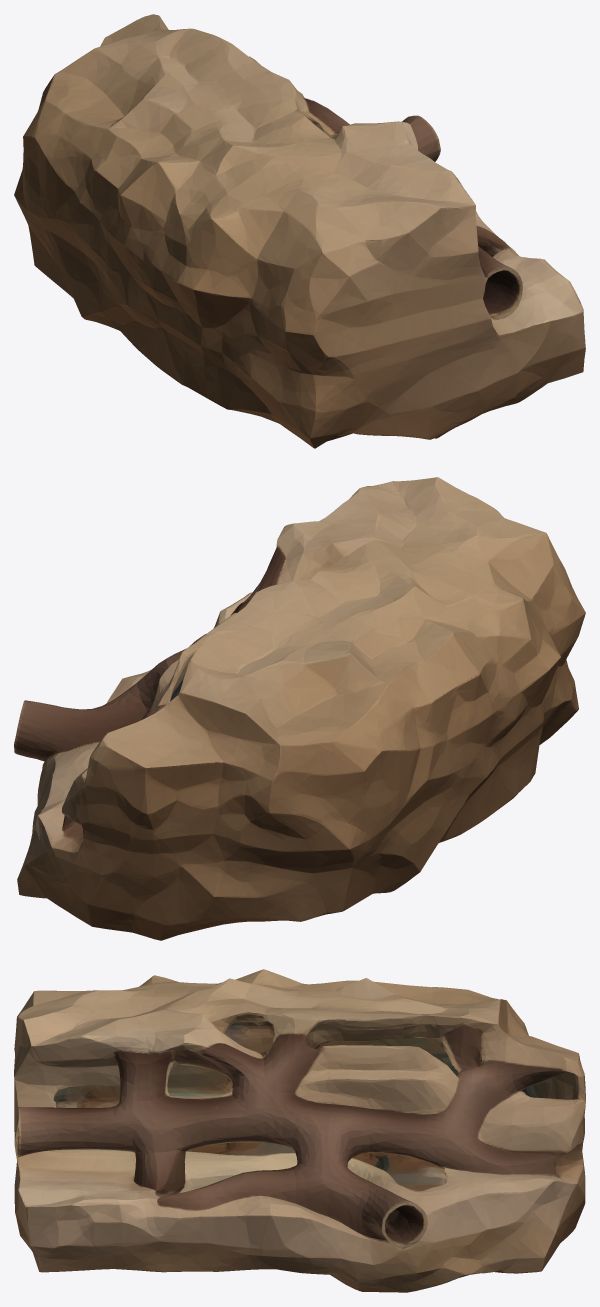
3 views of the same model, one above another, from view 1: azimuth 30°, elevation 25°; view 2: azimuth 150°, elevation 25°; view 3: azimuth 270°, elevation 25° (orthographic). The views are drawn at different scales.
Visible parts, largest first — view 1: geometry_0; view 2: geometry_0; view 3: geometry_0.
Part boxes in pixels (x1,y1,x2,y2): geometry_0: (14, 14, 585, 448); geometry_0: (14, 477, 585, 940); geometry_0: (14, 969, 585, 1292).
Bounding box in the file's own units: 0.2235 × 0.1438 × 0.32.
Materials: 1 (1 with a texture image).
